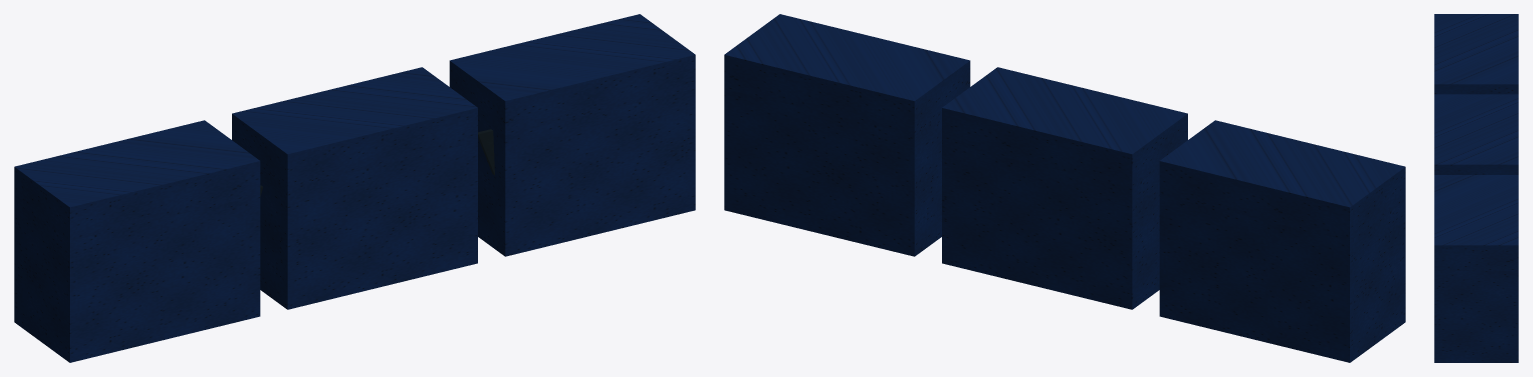
File: PROP-C33DE3A76E7C.glb
The picture shows the model from 3 angles, left to right: view 1: azimuth 30°, elevation 25°; view 2: azimuth 150°, elevation 25°; view 3: azimuth 270°, elevation 25°; orthographic projection. The views are drawn at different scales.
Parts seen in each view (by area): view 1: cabinet.005; view 2: cabinet.005; view 3: cabinet.005.
Part boxes in pixels (bbox=[...]): cabinet.005: bbox=[14, 14, 695, 362]; cabinet.005: bbox=[724, 14, 1405, 362]; cabinet.005: bbox=[1434, 14, 1518, 362].
Bounding box in the file's own units: 1.84 × 0.437 × 0.2835.
2 materials, 2 textured.
